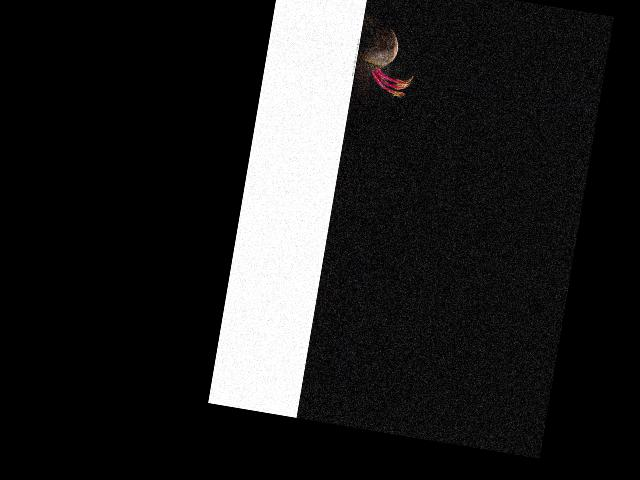beet: (351, 11, 422, 98)
